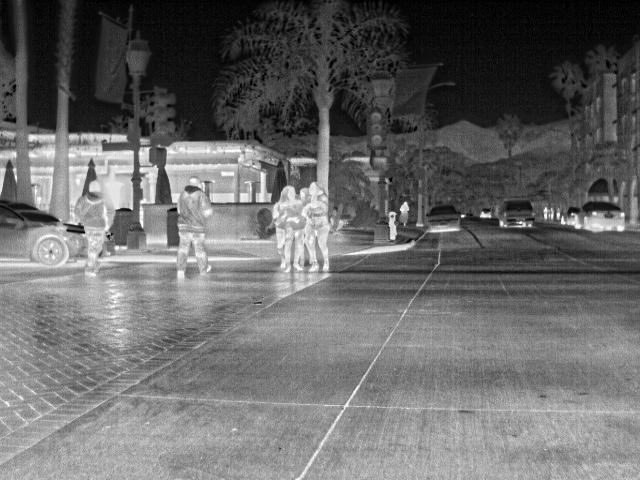car: (1, 195, 86, 263), (579, 200, 628, 234), (497, 198, 535, 230), (425, 204, 464, 232), (561, 206, 580, 224), (479, 206, 495, 220)
person: (176, 174, 214, 278), (76, 179, 114, 279), (278, 188, 309, 274), (305, 183, 332, 274), (400, 199, 412, 229)
